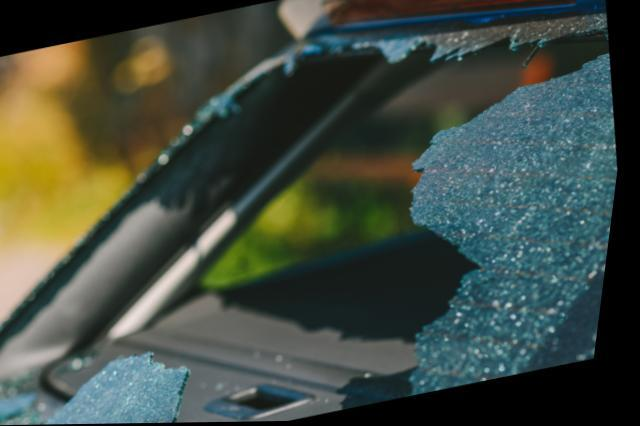glass shatter: (0, 13, 622, 426)
